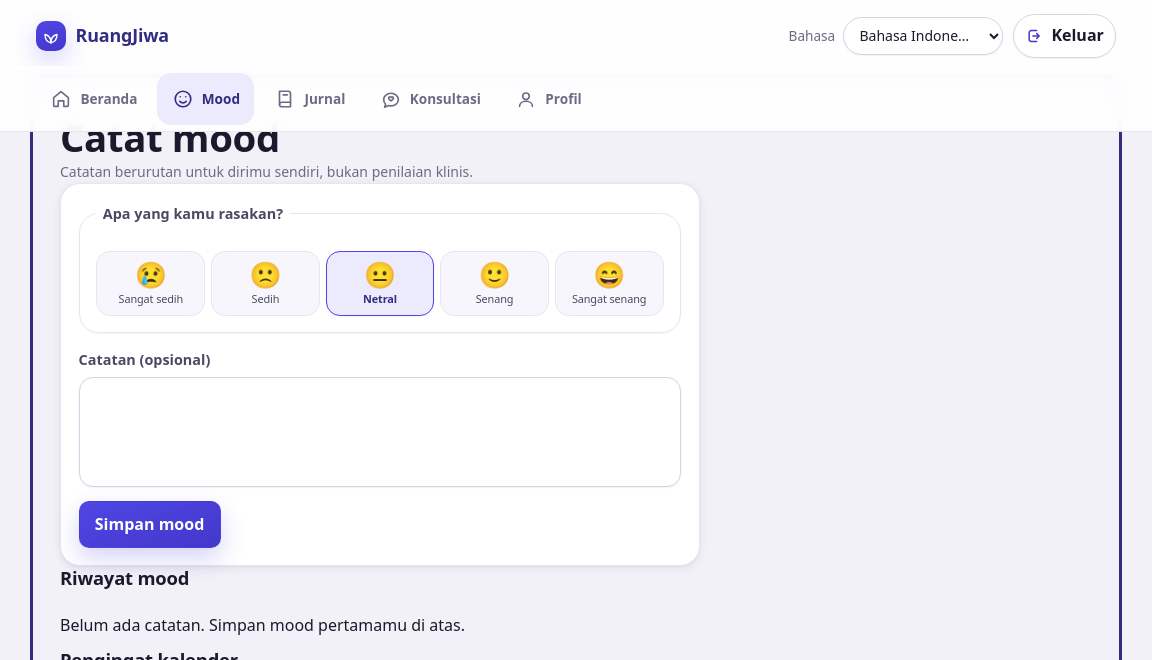
it: routes every visible tab and quiz to built screens and waits for initial auth
Earlier steps of the test are not shown.
Later steps or results of the test are not shown.
(page scrolled)
Expected: the heading "Catat mood" is shown, [60,111,280,163]
Click the link "Jurnal". click: (310, 99)
box: [274,88,345,110]
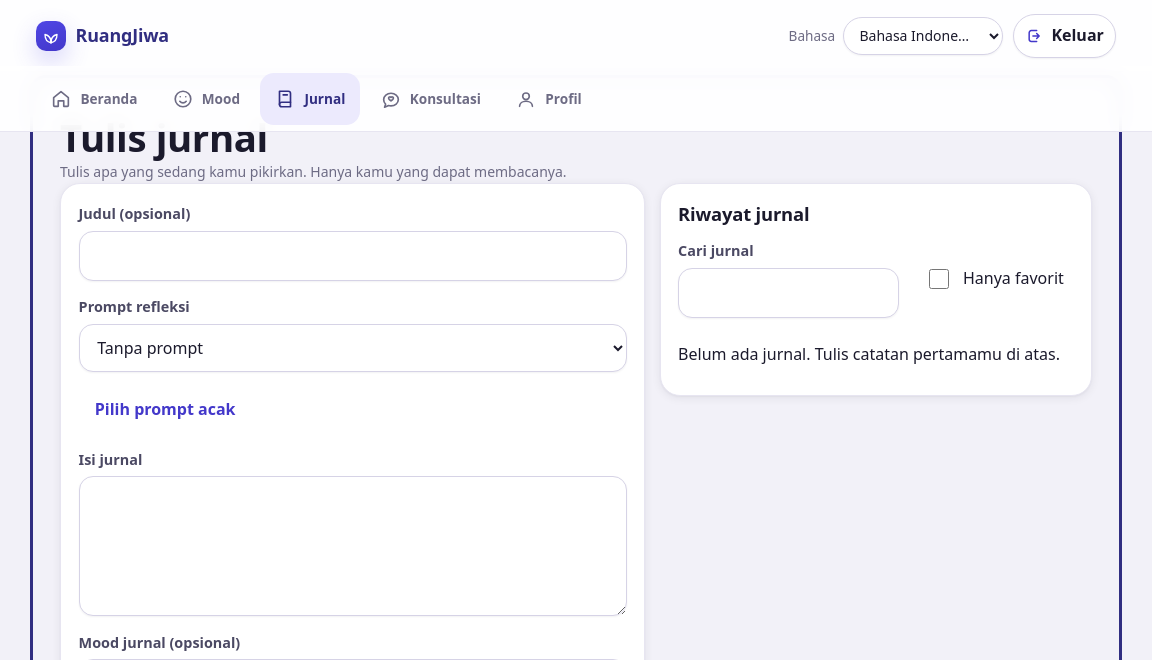
Now the heading "Tulis jurnal" is shown, box [60,111,268,163]
Click the link "Konsultasi". click: (430, 99)
box: [380,88,481,110]
(page scrolled)
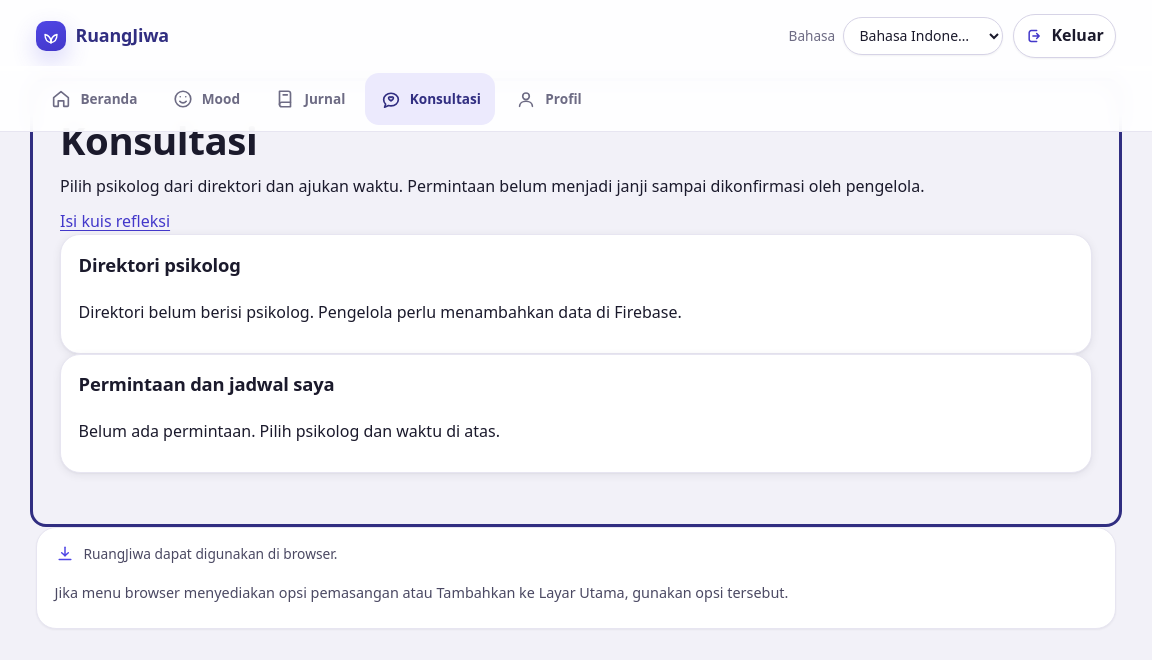
Now the heading "Konsultasi" is shown, box [60,114,257,166]
Click the link "Profil". click: (548, 99)
box: [515,88,582,110]
(page scrolled)
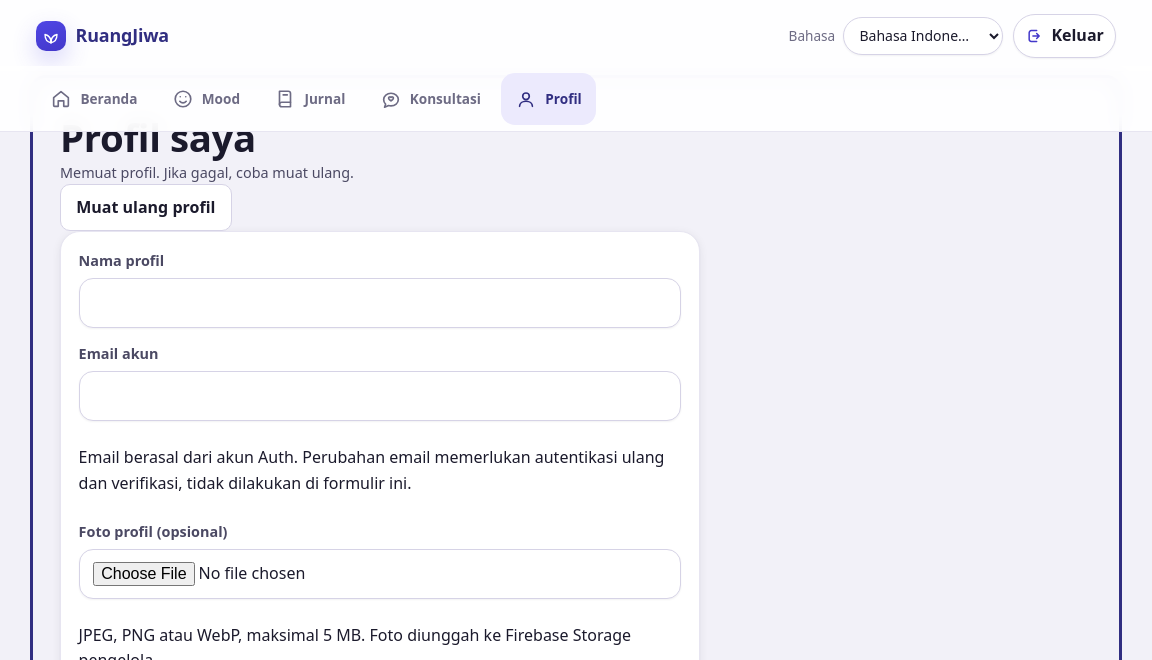
Now the heading reads "Profil saya", box [60,111,256,163]
Click the link "Beranda". click: (94, 99)
box: [50,88,137,110]
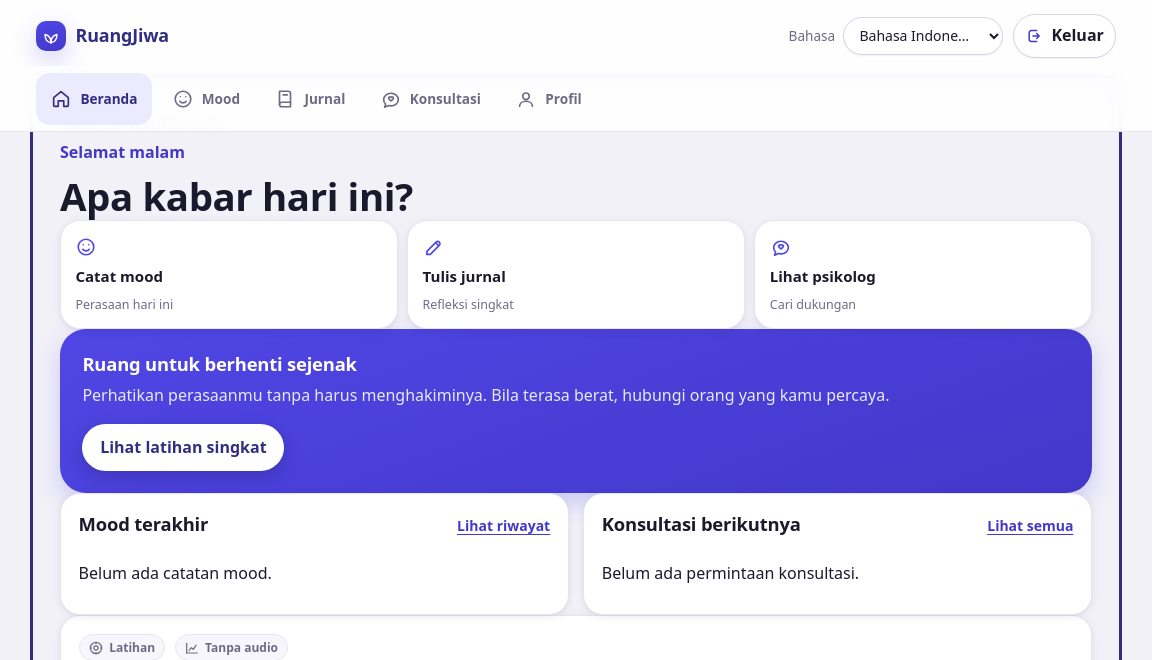
Now the heading "Apa kabar hari ini?" is shown, box [60,170,413,222]
Click the link "Konsultasi". click: (430, 99)
box: [380,88,481,110]
(page scrolled)
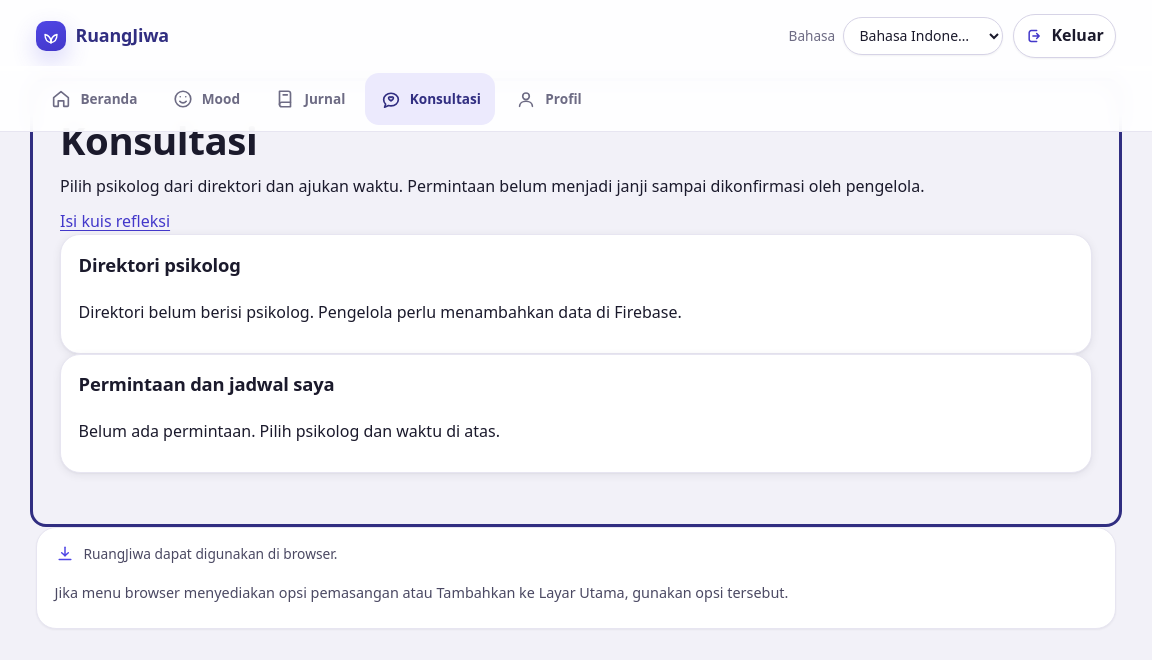
Click the link "Isi kuis refleksi". click: (115, 221)
box: [60,210,170,232]
(page scrolled)
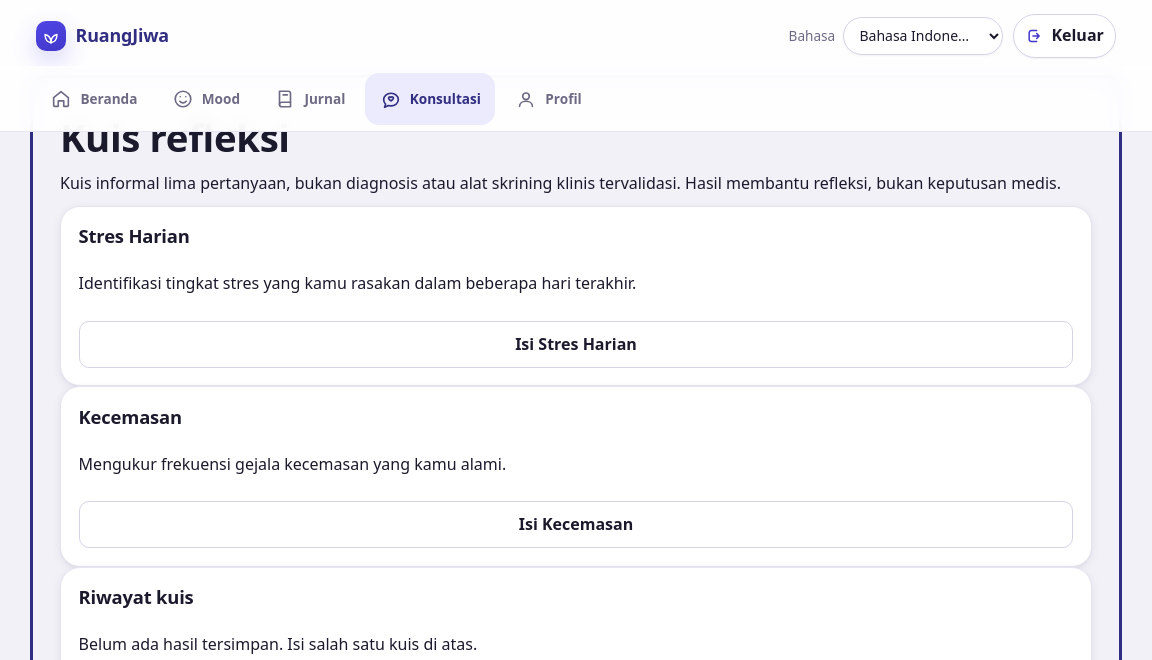
Now the heading "Kuis refleksi" is shown, box [60,111,290,163]
